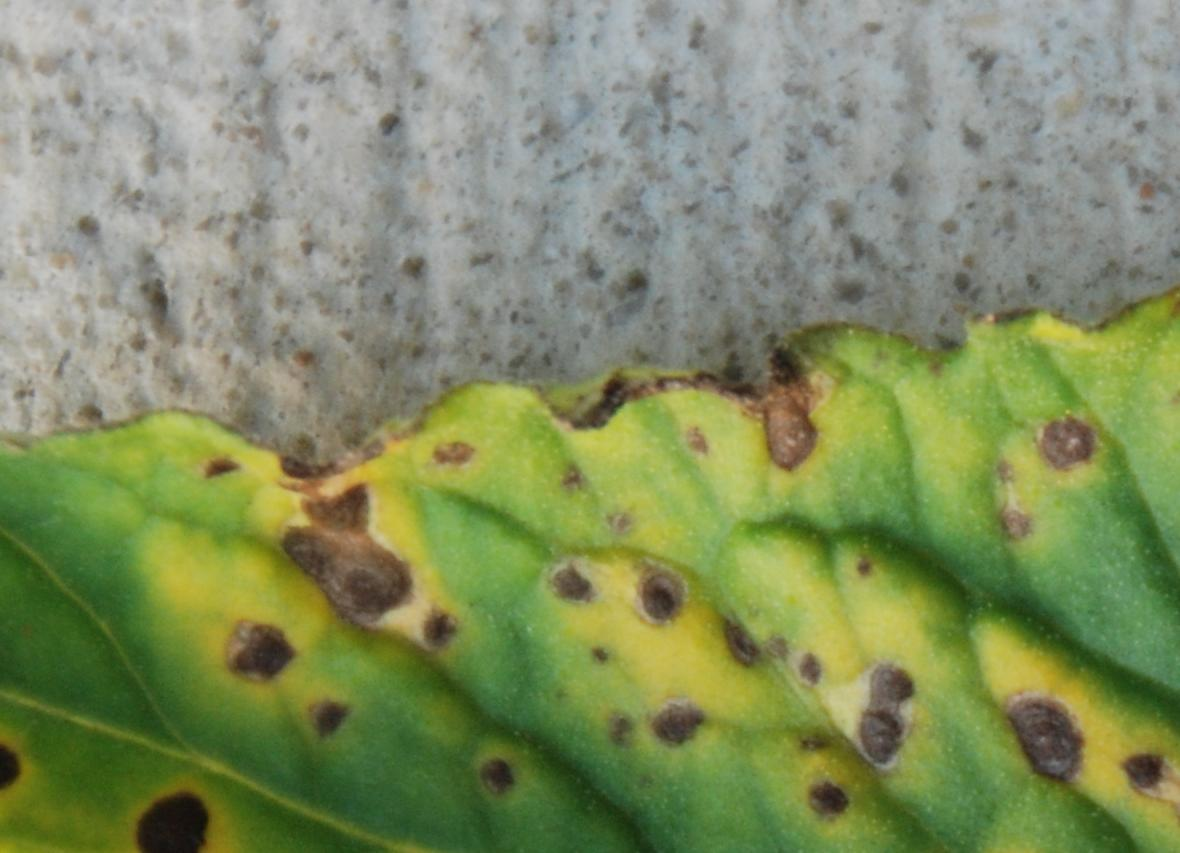Tomato Early blight leaf: (0, 217, 1180, 853)
